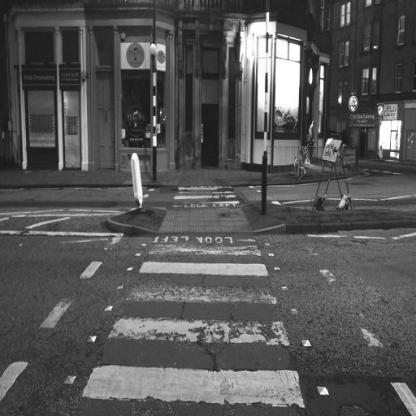crosswalk: (79, 316, 305, 411), (138, 242, 271, 281)
